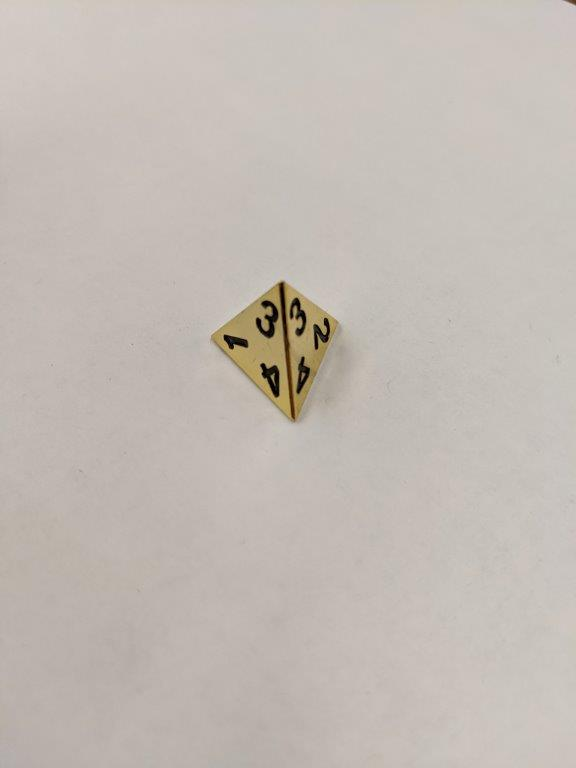d4-3: (203, 278, 346, 426)
